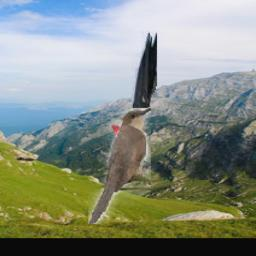Cuckoo: (88, 108, 151, 224)
Woodpecker: (111, 31, 158, 171)
